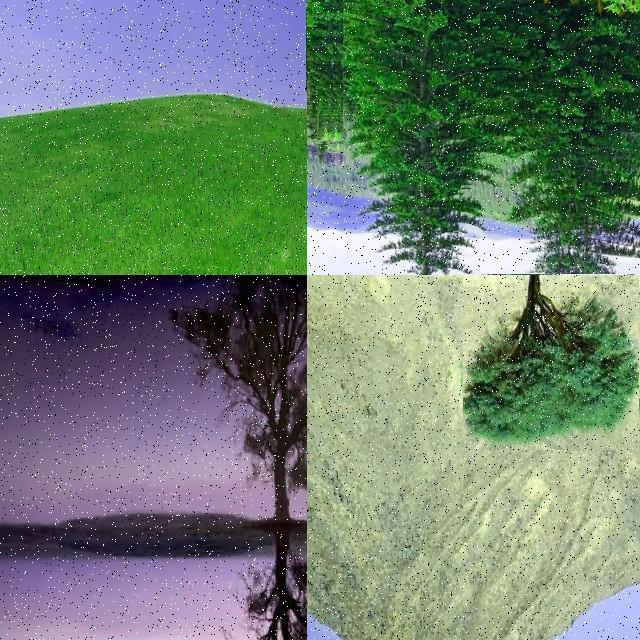tree: (516, 1, 640, 276), (463, 274, 639, 450), (362, 9, 470, 274), (307, 0, 343, 144), (307, 14, 333, 140), (307, 2, 333, 124), (307, 12, 331, 122), (307, 11, 329, 119), (308, 3, 328, 116), (307, 14, 327, 126), (308, 13, 324, 146), (306, 0, 326, 92), (448, 0, 480, 36)
